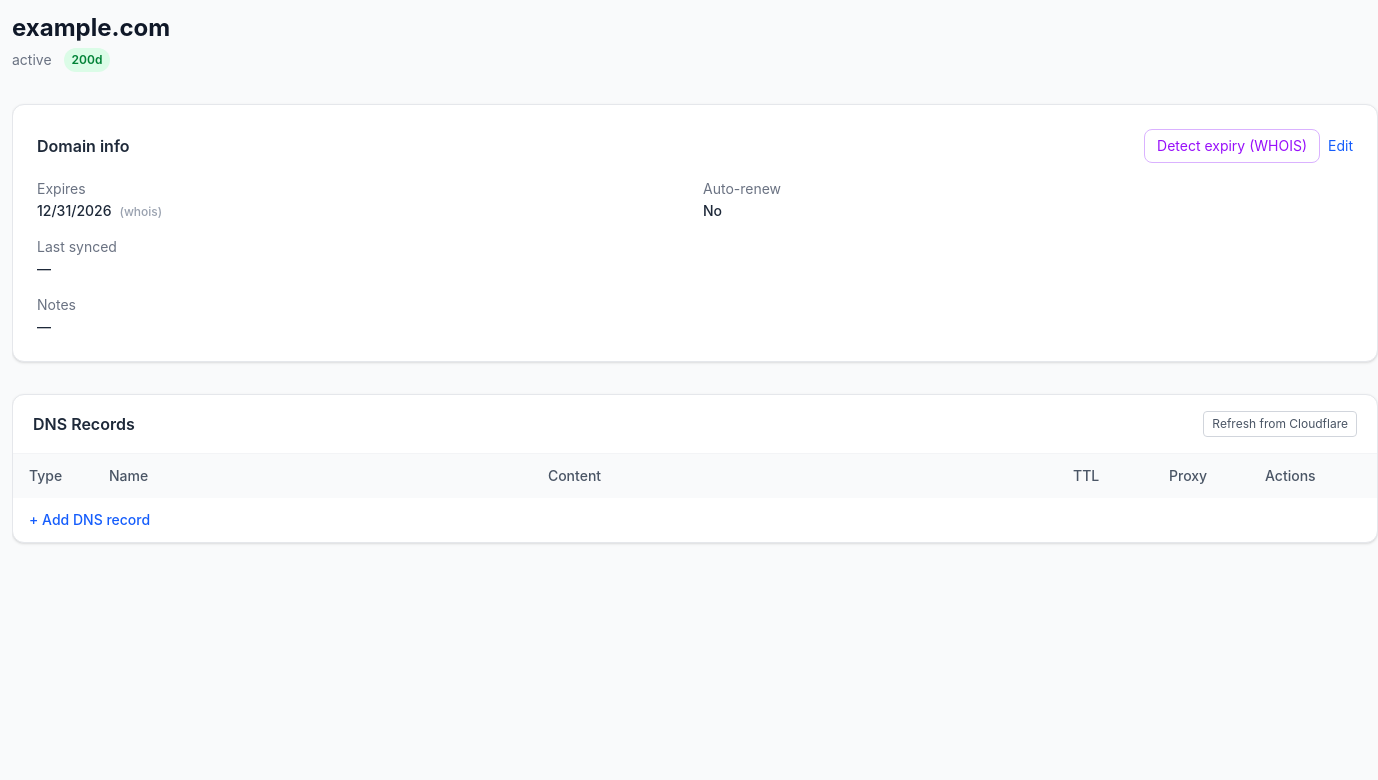
Test case: DomainDetail — WHOIS › shows success message and updates expiry when WHOIS finds a date
Step 1. Click the button "Detect expiry (WHOIS)" → (1232, 146), box [1144, 129, 1320, 163]
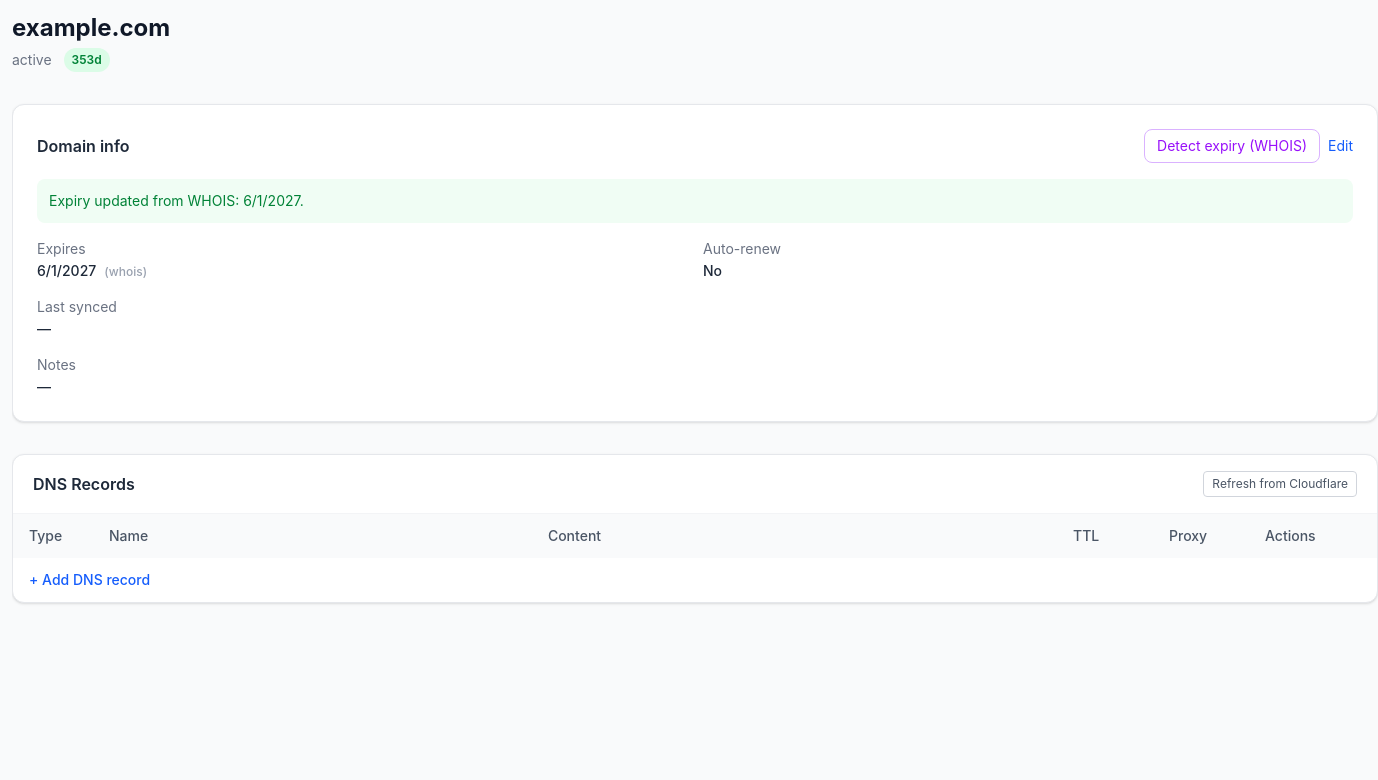
Expected: the message shows "Expiry updated from WHOIS", [49, 192, 304, 209]
